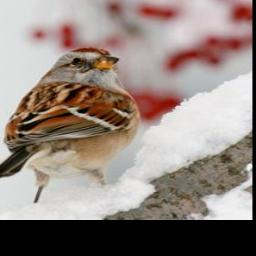Sparrow: (0, 46, 143, 205)
